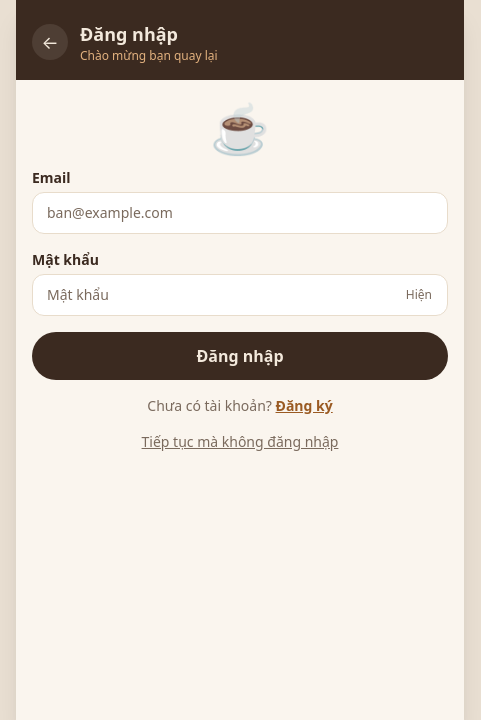
Test: Đăng nhập › ô trống -> báo lỗi bắt buộc
Click the button "Đăng nhập": (240, 356) [32, 332, 448, 380]
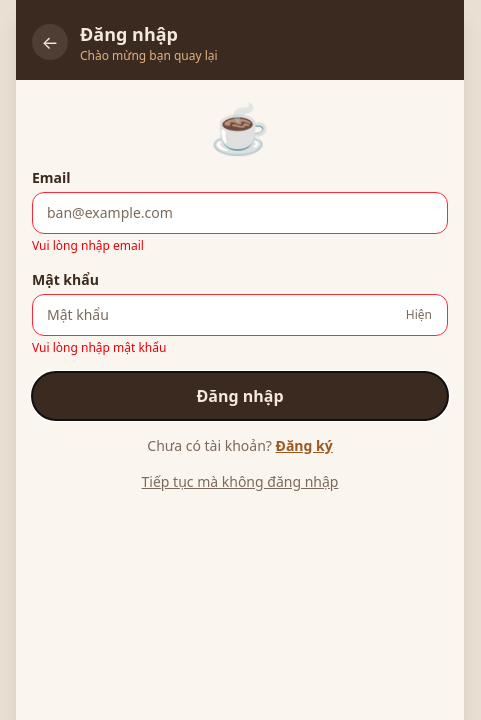
Result: the text "Vui lòng nhập email" is shown at [32, 237, 144, 254]
Result: the text "Vui lòng nhập mật khẩu" is shown at [32, 339, 166, 356]
